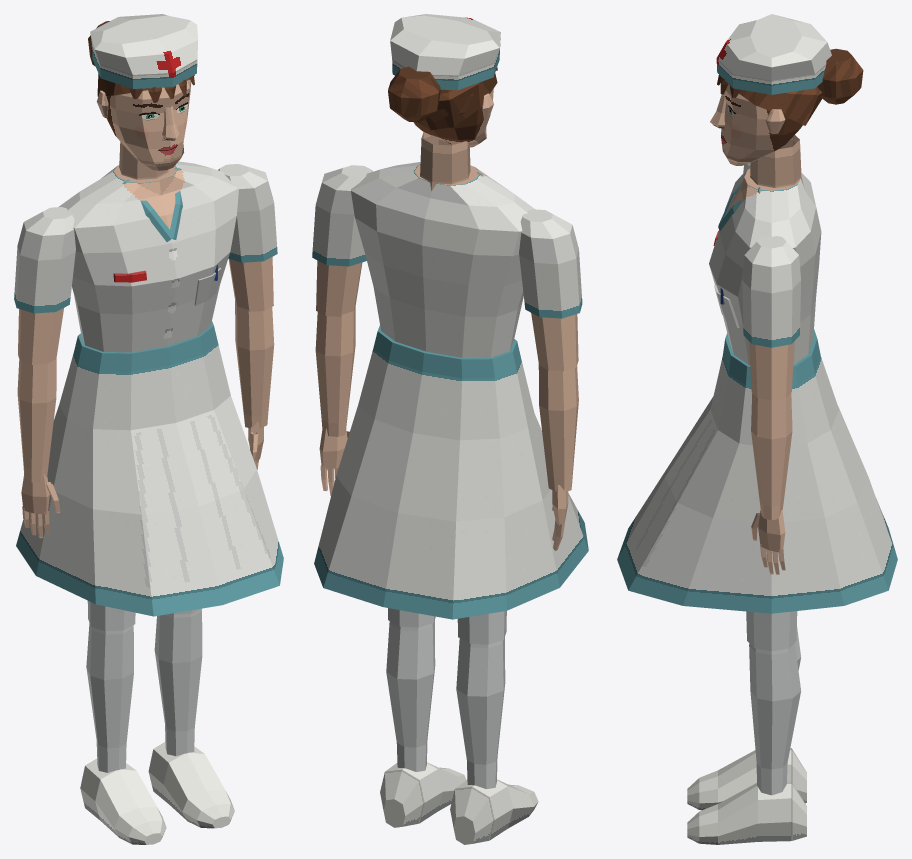
Rendered from nurse.glb.
3 renders of one model, left to right at view 1: azimuth 30°, elevation 25°; view 2: azimuth 150°, elevation 25°; view 3: azimuth 270°, elevation 25°, orthographic. The views are drawn at different scales.
Parts seen in each view (by area): view 1: dress_skirt, dress_bodice, upper_arm_r, nurse_cap, upper_arm_l, calf_r, calf_l, head_skull, shoe_l, shoe_r, lower_arm_r, lower_arm_l (+4 smaller); view 2: dress_skirt, dress_bodice, upper_arm_r, nurse_cap, upper_arm_l, calf_r, calf_l, lower_arm_l, lower_arm_r, shoe_r, shoe_l, hair_bun (+7 smaller); view 3: dress_skirt, dress_bodice, upper_arm_l, nurse_cap, calf_l, shoe_l, lower_arm_l, head_skull, shoe_r, neck_column, thigh_l, hair_bun (+2 smaller).
Part boxes in pixels (box(x1,y1,x2,y2)): dress_skirt: box(16, 321, 283, 616); dress_bodice: box(58, 161, 238, 352); upper_arm_r: box(14, 207, 75, 364); nurse_cap: box(90, 14, 197, 88); upper_arm_l: box(218, 164, 277, 311); calf_r: box(86, 623, 133, 772); calf_l: box(154, 608, 202, 756); head_skull: box(106, 79, 191, 170); shoe_l: box(148, 742, 234, 828); shoe_r: box(80, 758, 166, 844); lower_arm_r: box(17, 359, 56, 482); lower_arm_l: box(235, 300, 274, 428); dress_skirt: box(314, 325, 588, 619); dress_bodice: box(351, 162, 534, 357); upper_arm_r: box(519, 209, 582, 371); nurse_cap: box(390, 14, 500, 90); upper_arm_l: box(312, 165, 372, 316); calf_r: box(456, 637, 505, 789); calf_l: box(386, 620, 435, 771); lower_arm_l: box(315, 306, 355, 436); lower_arm_r: box(538, 364, 578, 491); shoe_r: box(450, 779, 538, 844); shoe_l: box(380, 762, 466, 827); hair_bun: box(388, 66, 440, 122); dress_skirt: box(617, 329, 897, 613); dress_bodice: box(709, 166, 821, 365); upper_arm_l: box(742, 236, 800, 400); nurse_cap: box(716, 14, 831, 94); calf_l: box(749, 643, 800, 795); shoe_l: box(687, 781, 806, 844); lower_arm_l: box(751, 393, 792, 520); head_skull: box(721, 84, 817, 165); shoe_r: box(687, 748, 806, 810); neck_column: box(750, 135, 802, 187); thigh_l: box(746, 611, 797, 651); hair_bun: box(817, 48, 863, 104).
Bounding box in the file's own units: 0.6156 × 1.77 × 0.5727.
Materials: 1 (1 with a texture image).
